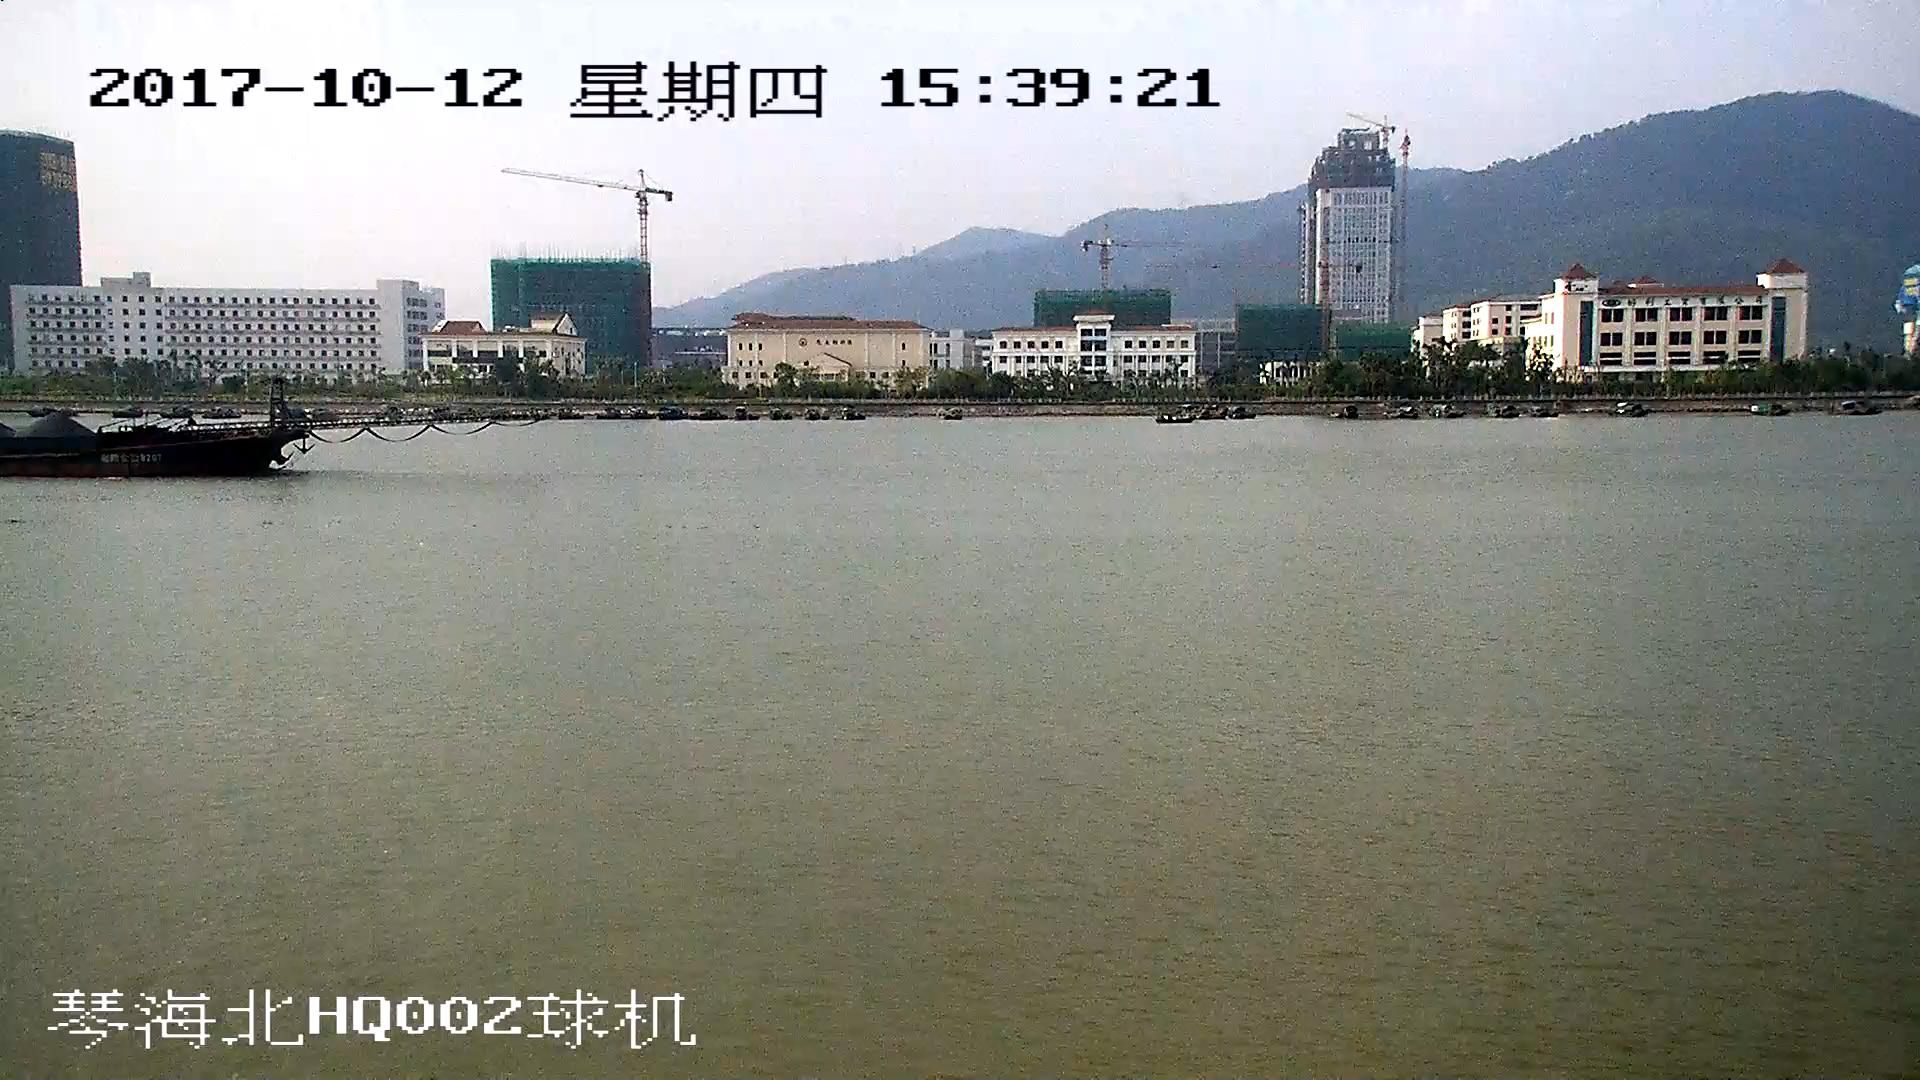ore carrier: (1, 379, 493, 476)
